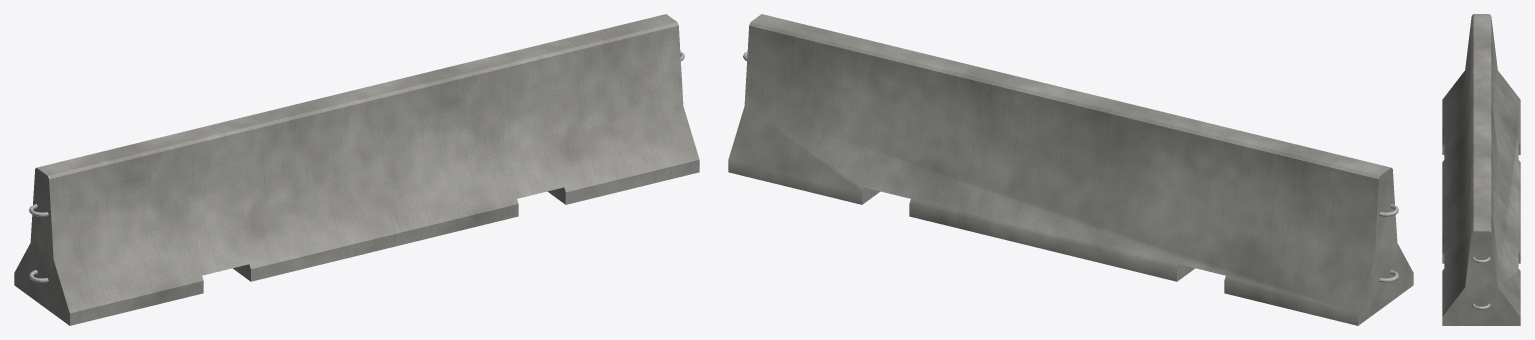
Rendered from jersey-barrier.glb.
3 views of the same model, side by side, from view 1: azimuth 30°, elevation 25°; view 2: azimuth 150°, elevation 25°; view 3: azimuth 270°, elevation 25° (orthographic). The views are drawn at different scales.
Visible parts, largest first — view 1: Precast concrete barrier; view 2: Precast concrete barrier; view 3: Precast concrete barrier, Steel connection loops.
Part boxes in pixels (left/top/right/bottom): Precast concrete barrier: left=14, top=14, right=699, bottom=325; Precast concrete barrier: left=728, top=14, right=1413, bottom=325; Precast concrete barrier: left=1442, top=14, right=1520, bottom=325; Steel connection loops: left=1472, top=257, right=1490, bottom=309.
Size of the model in its own units: 4.14 by 0.813 by 0.61.
2 materials, 2 textured.
